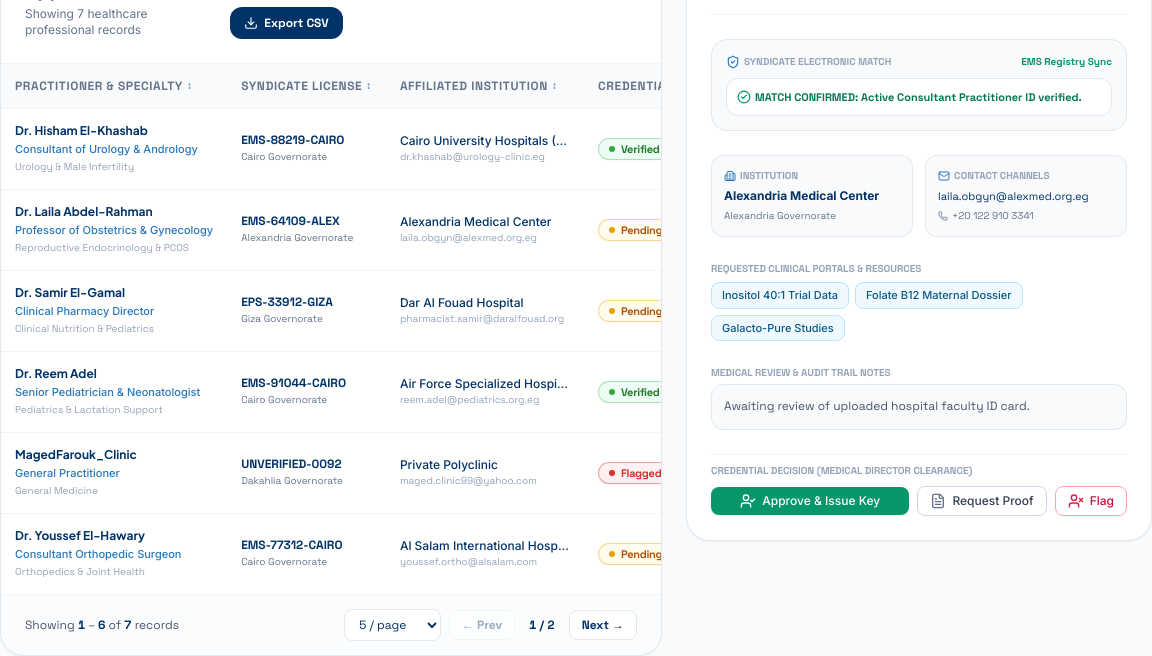
Test case: HCPCredentialingPage (HCP Syndicate Verification) › opens access key issuance modal
(page scrolled)
Click the button "Approve & Issue Key": click(810, 500) [711,486,909,514]
(page scrolled)
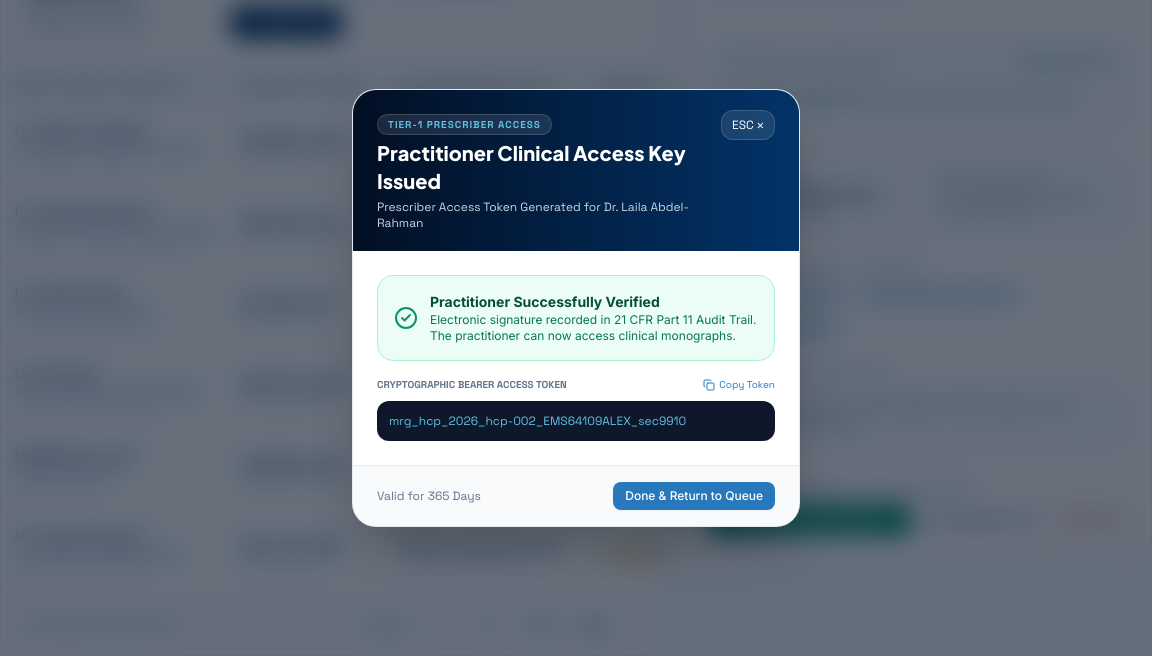
Result: the heading "Practitioner Clinical Access Key Issued" is shown at [377,139,705,195]
